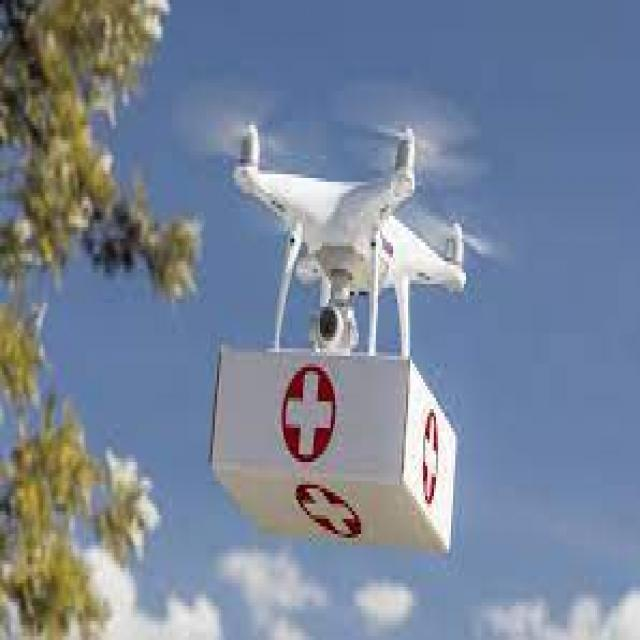drones: (160, 57, 522, 368)
